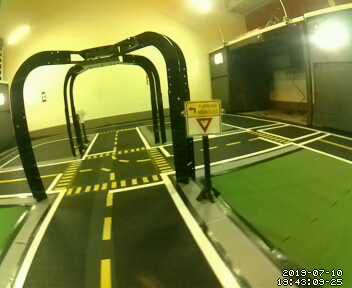Turn Yield: (183, 100, 223, 138)
